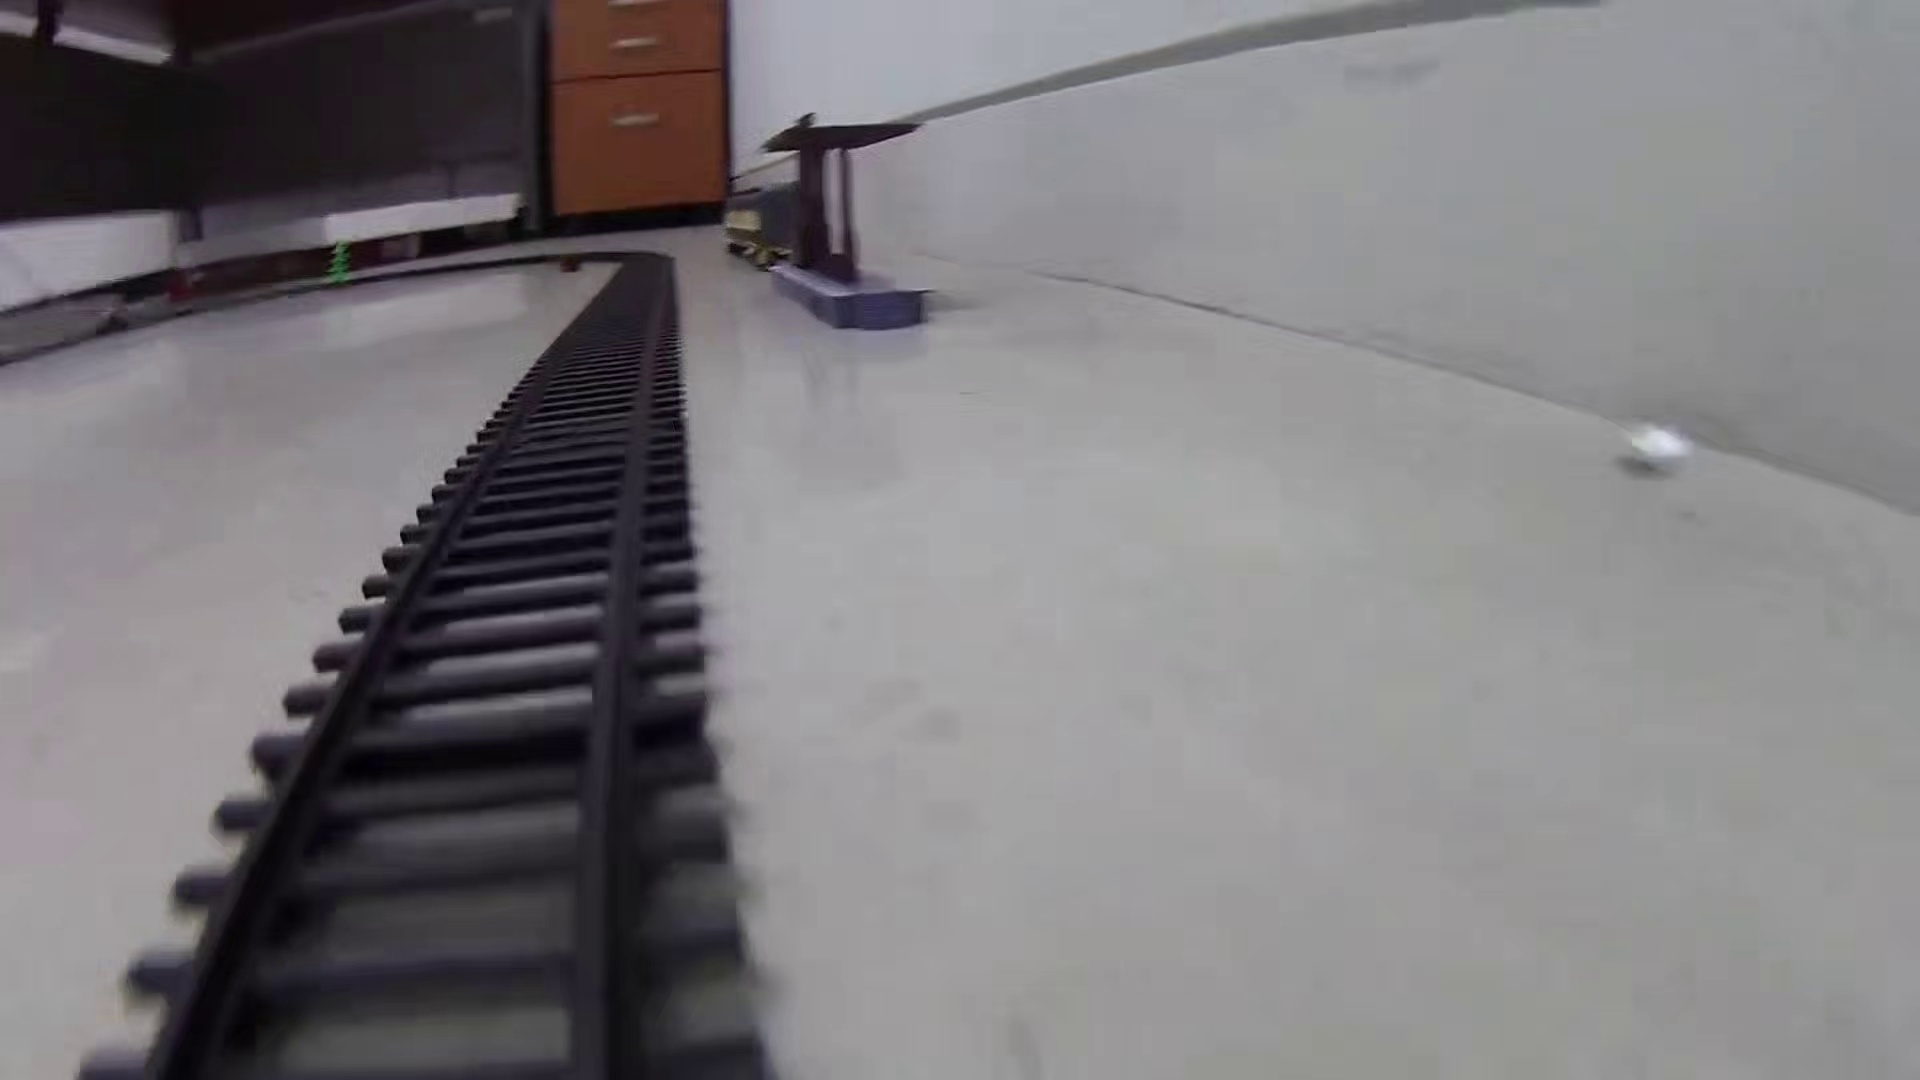tree: (329, 238, 352, 290)
